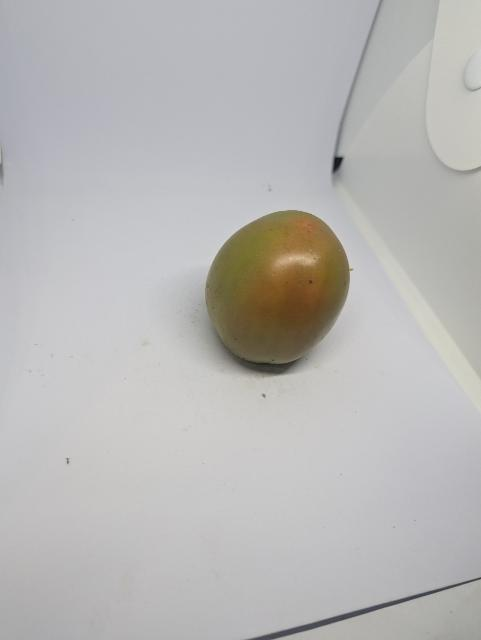breaker: (199, 203, 364, 376)
